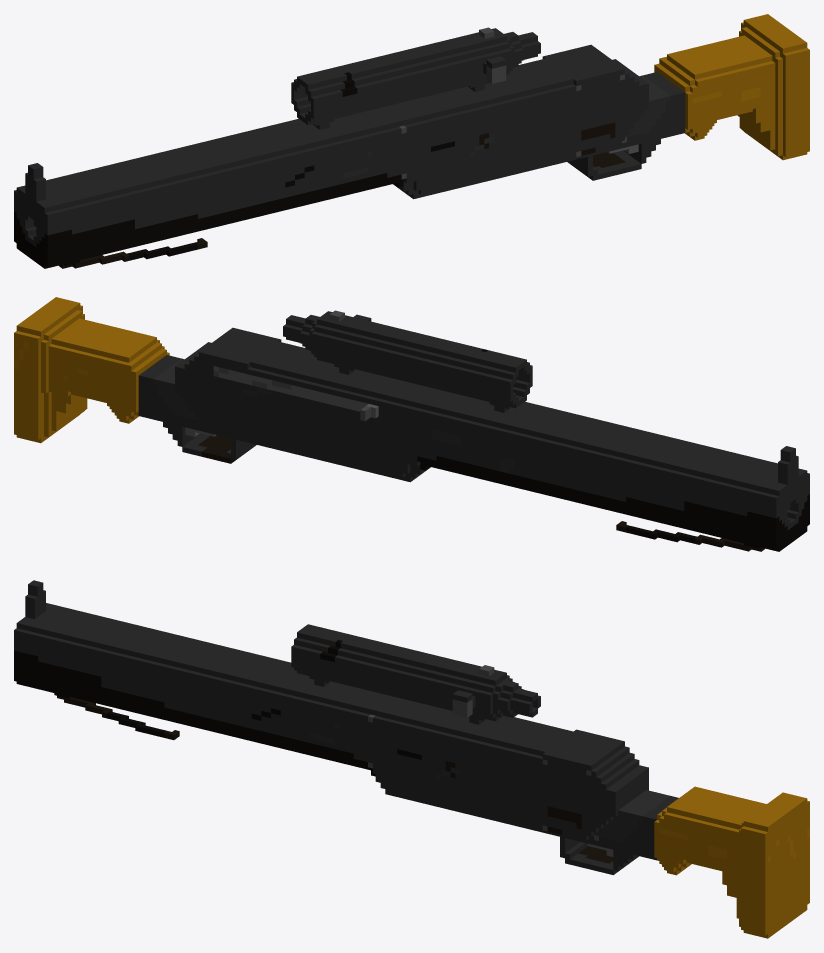
Rendered from SnpNPC-1.obj.
3 renders of one model, top to bottom at view 1: azimuth 30°, elevation 25°; view 2: azimuth 150°, elevation 25°; view 3: azimuth 330°, elevation 25°, orthographic.
Size of the model in its own units: 15.6 by 3.6 by 1.7.
Materials: 1 (1 with a texture image).
